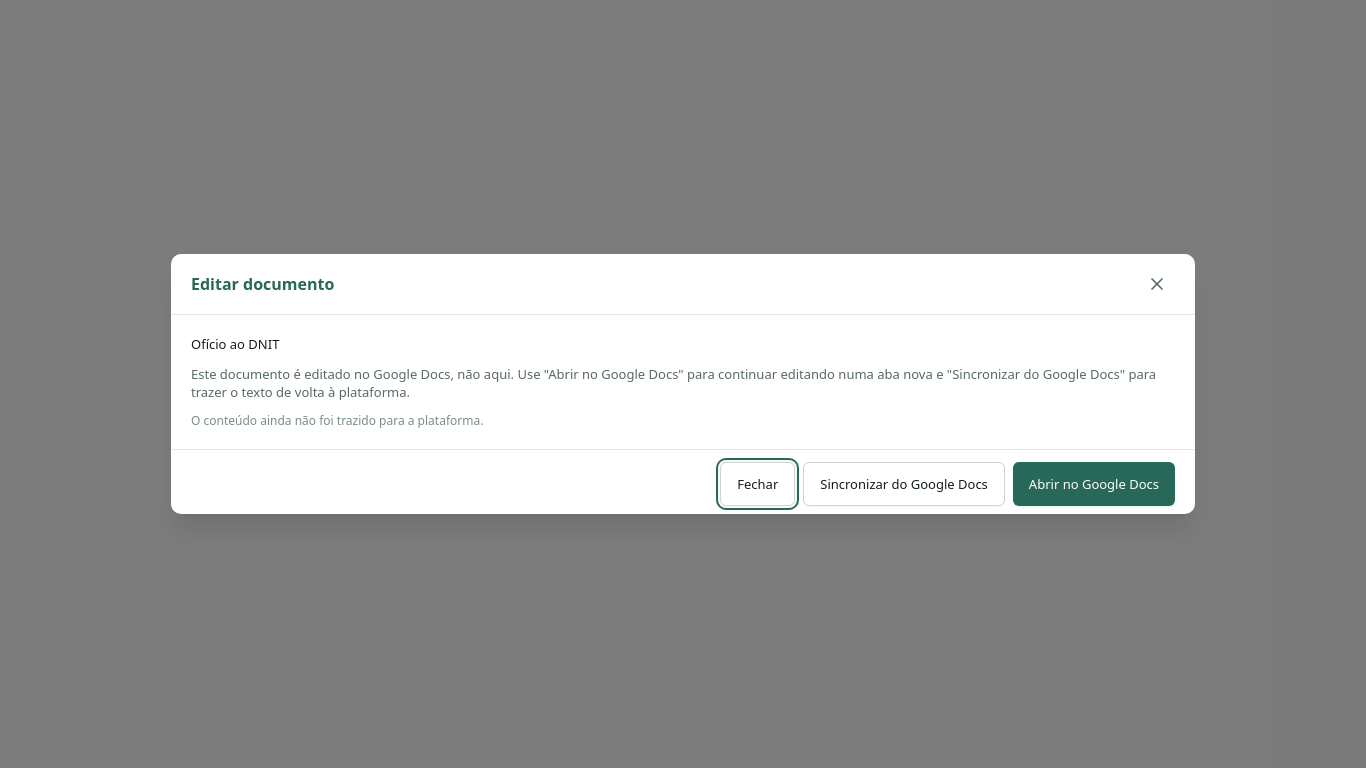
Test case: minuta do Google — sincronizar de volta › traz o conteúdo, mostra a prévia e avisa a versão nova
The image size is (1366, 768).
What coordinates should you click on to do the following:
click the button "Sincronizar do Google Docs"
I would click on:
 (904, 484)
Its box is [803, 462, 1005, 506].
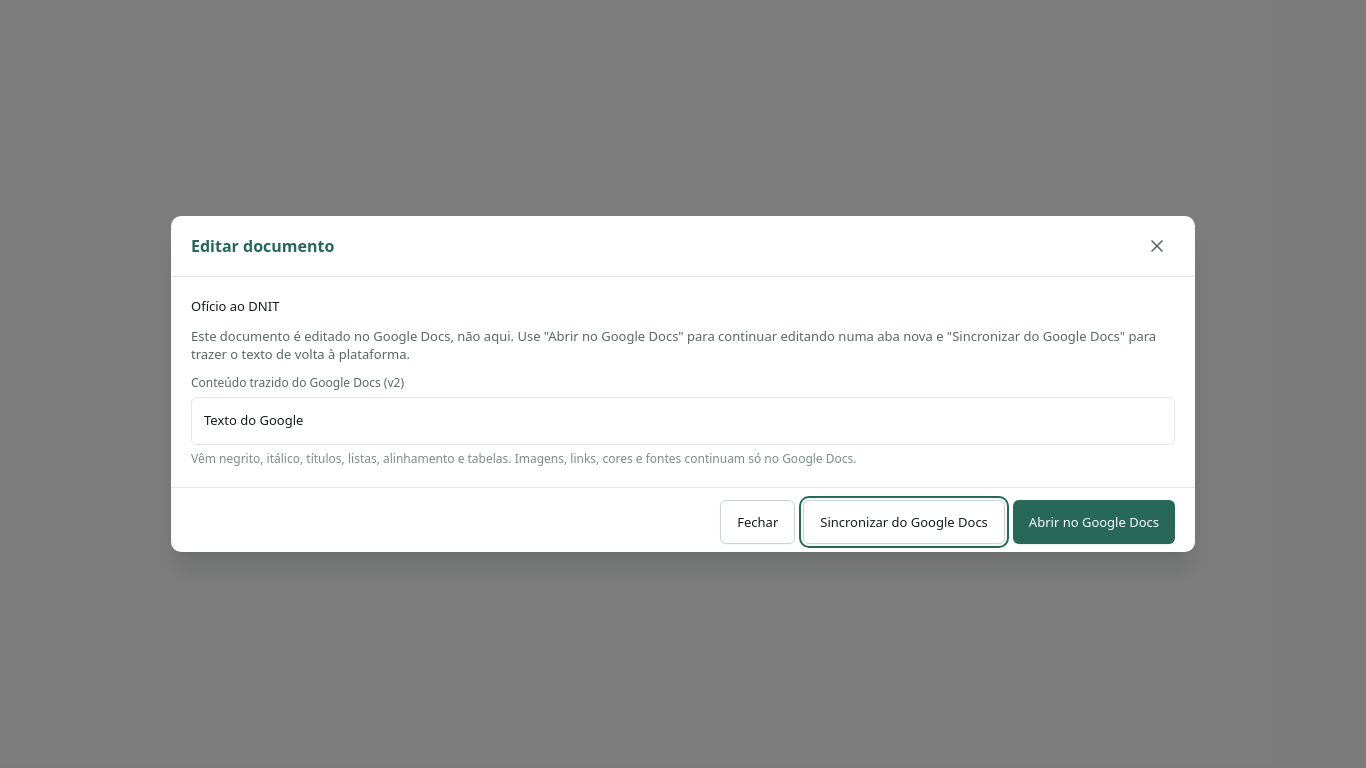
Expected: the text "Texto do Google" is shown, [204, 411, 303, 429]
